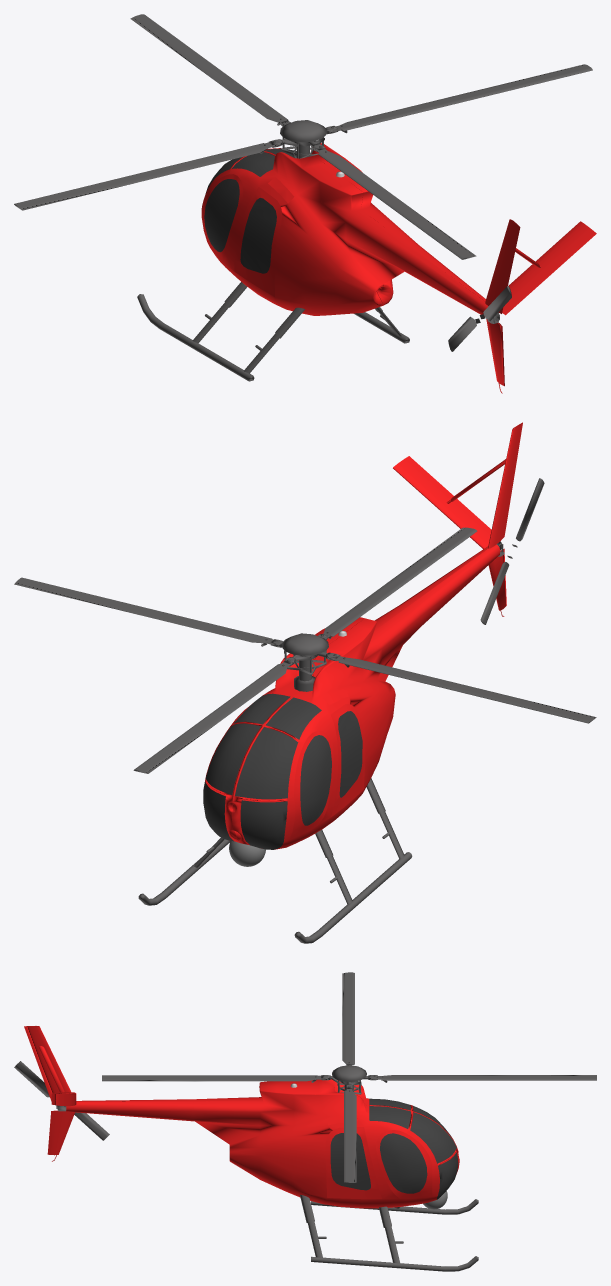
Rendered from helicopter.dae.
The picture shows the model from 3 angles, top to bottom: view 1: azimuth 30°, elevation 25°; view 2: azimuth 150°, elevation 25°; view 3: azimuth 270°, elevation 25°; orthographic projection. The views are drawn at different scales.
Visible parts, largest first — view 1: Hughes500, Box06, glass10, glass09, Cylinder01, Line01, Cylinder03, Cylinder05; view 2: Hughes500, Box06, glass09, glass3, glass10, Cylinder01, Line01, glass06, Line08, Sphere; view 3: Hughes500, Box06, glass08, glass07, Line08, Cylinder01, Line01, Cylinder11, glass06, Cylinder12, Cylinder07.
Part boxes in pixels (x1,y1,x2,y2): Hughes500: (14, 14, 592, 315); Box06: (485, 219, 596, 393); glass10: (240, 198, 276, 273); glass09: (204, 179, 239, 252); Cylinder01: (280, 120, 326, 158); Line01: (137, 294, 254, 381); Cylinder03: (244, 307, 304, 373); Cylinder05: (192, 282, 247, 343); Hughes500: (14, 527, 596, 849); Box06: (393, 422, 522, 616); glass09: (300, 735, 331, 825); glass3: (240, 800, 287, 849); glass10: (338, 711, 362, 797); Cylinder01: (282, 633, 328, 691); Line01: (294, 852, 412, 943); glass06: (203, 781, 233, 841); Line08: (138, 839, 230, 905); Sphere: (229, 841, 265, 866); Hughes500: (66, 972, 596, 1208); Box06: (24, 1026, 76, 1161); glass08: (380, 1133, 427, 1193); glass07: (330, 1133, 370, 1190); Line08: (311, 1256, 478, 1271); Cylinder01: (332, 1065, 366, 1094); Line01: (311, 1199, 478, 1214); Cylinder11: (300, 1194, 326, 1257); glass06: (437, 1152, 458, 1199); Cylinder12: (379, 1206, 403, 1263); Cylinder07: (14, 1061, 49, 1097).
Size of the model in its own units: 9.23 by 10.86 by 4.44.
